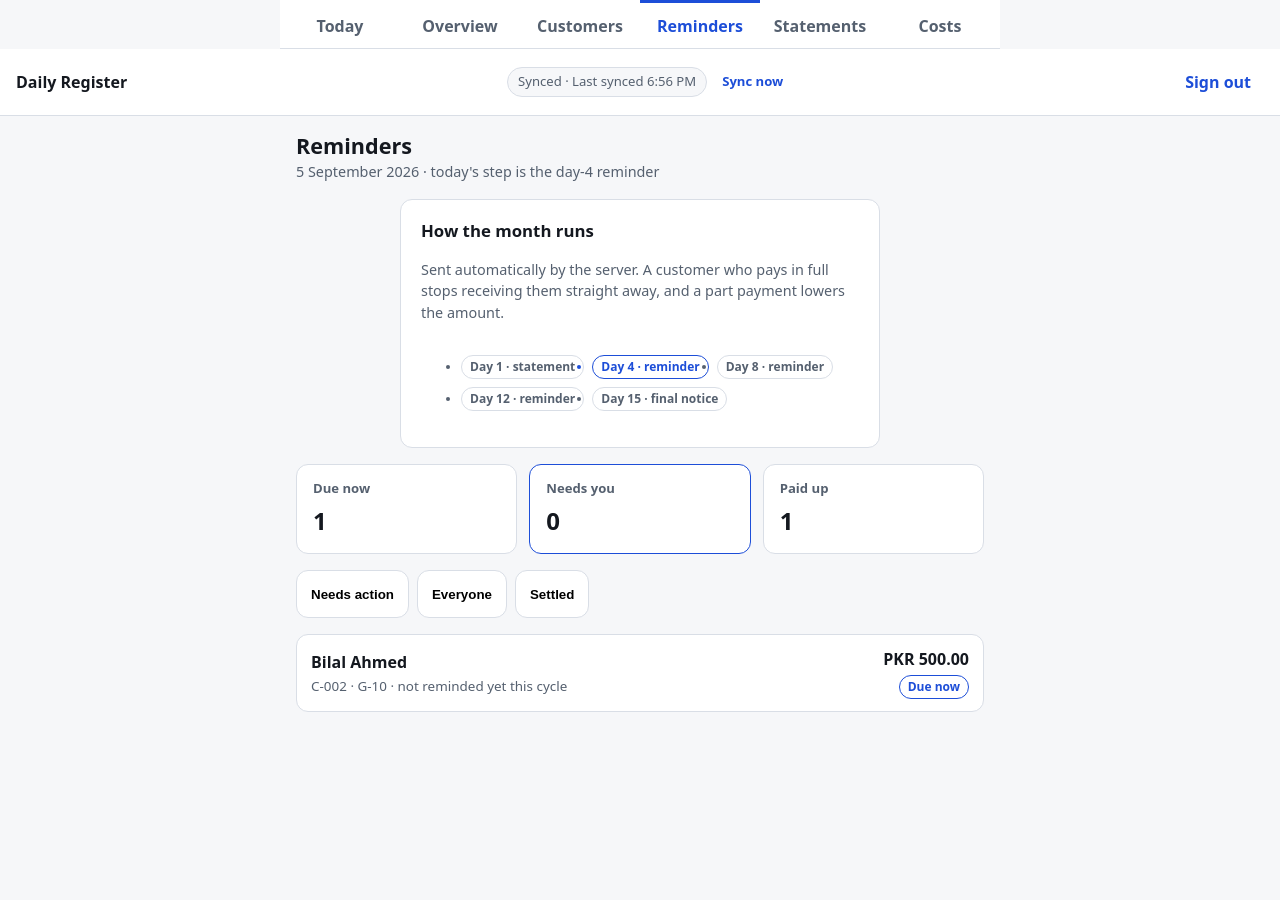
Test: the reminders screen › filters on the status the server derived
Expected: the heading "Reminders" is shown, [296,131,412,160]
Expected: the text "Bilal Ahmed" is shown, [311,650,407,674]
Click the button "Everyone" at (462, 594), box [417,570,507,618]
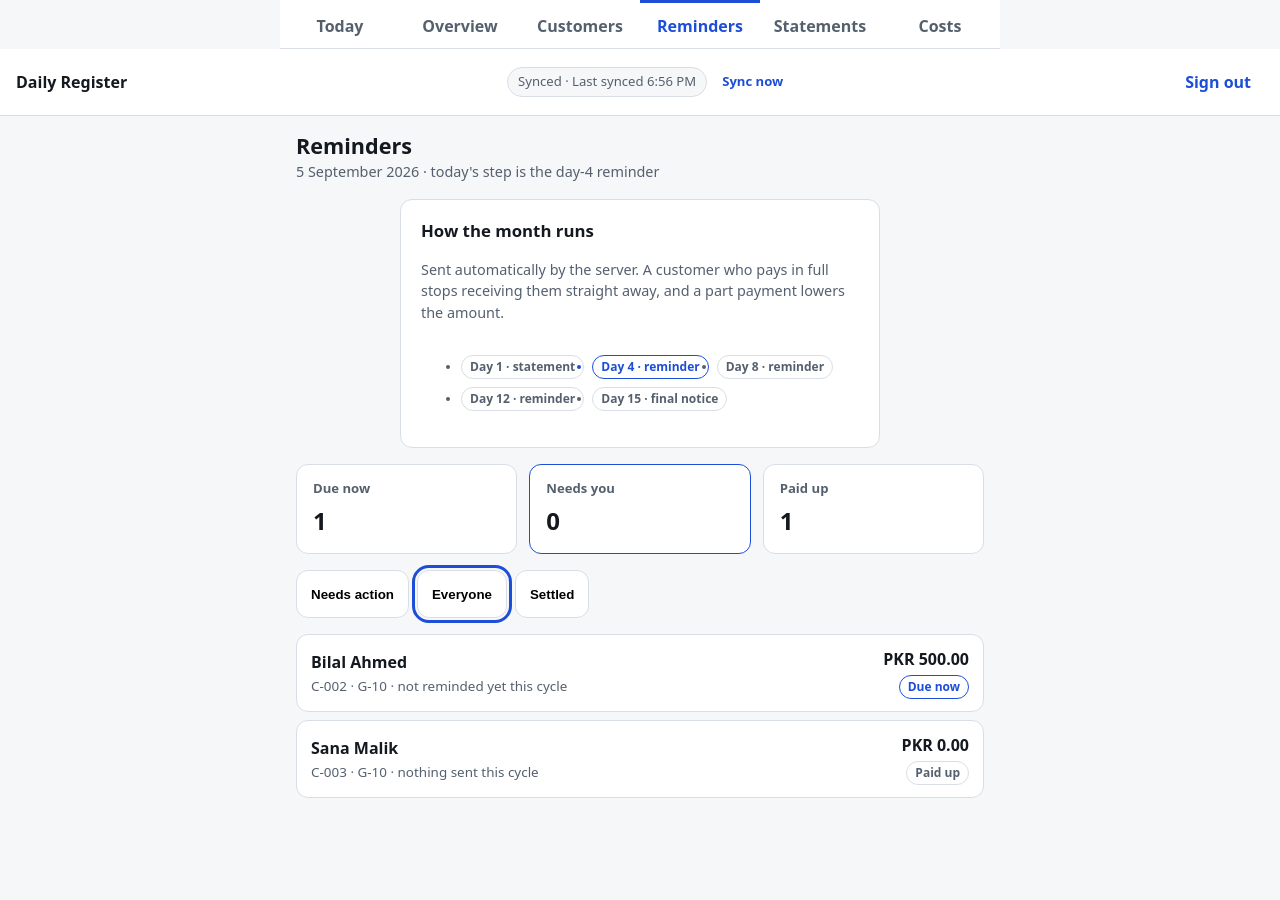
Result: the text "Sana Malik" is shown at [311,736,398,760]
Click the button "Settled" at (552, 594), box [515,570,589,618]
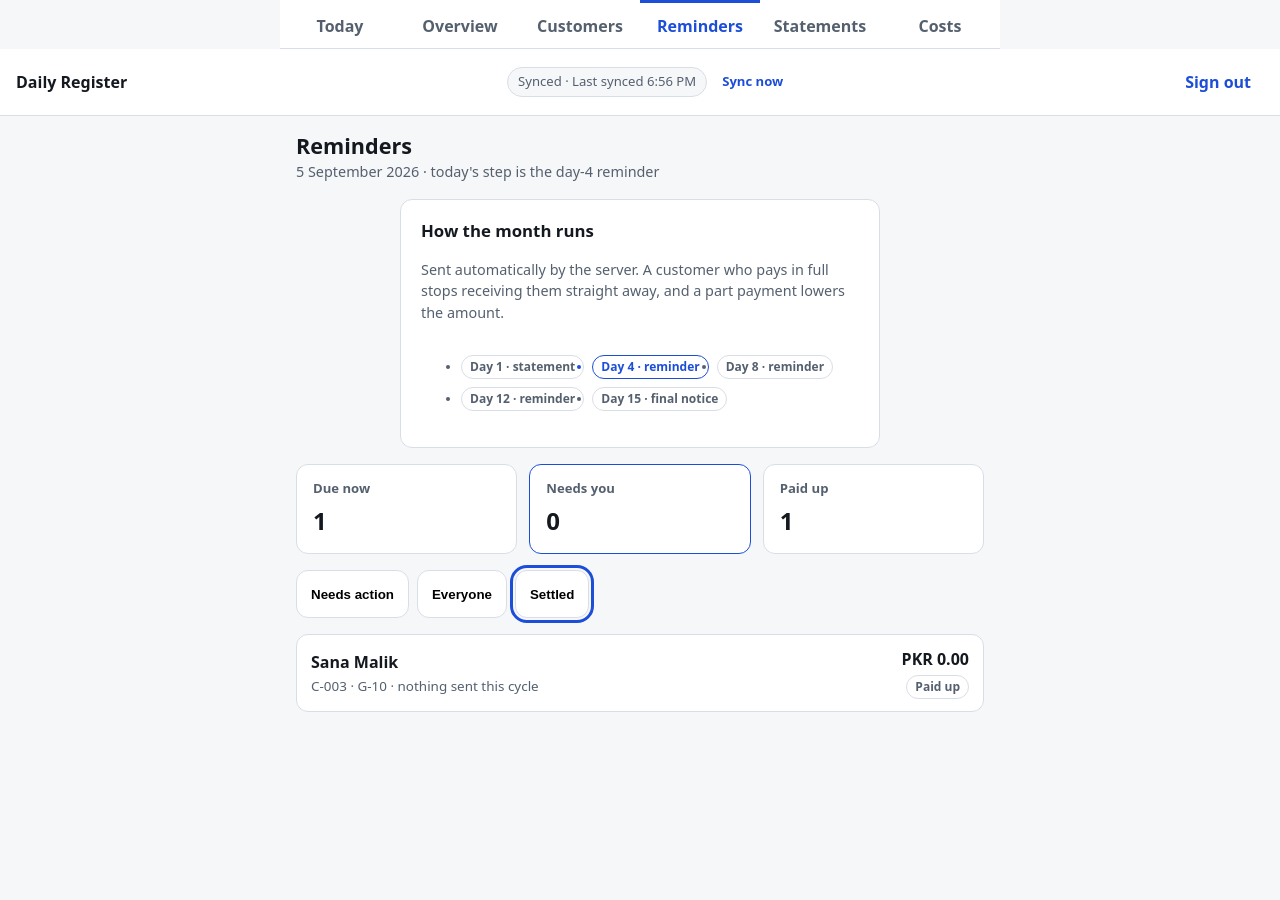
Result: the text "Sana Malik" is shown at [311,650,398,674]
Result: the button "Bilal Ahmed" is gone
